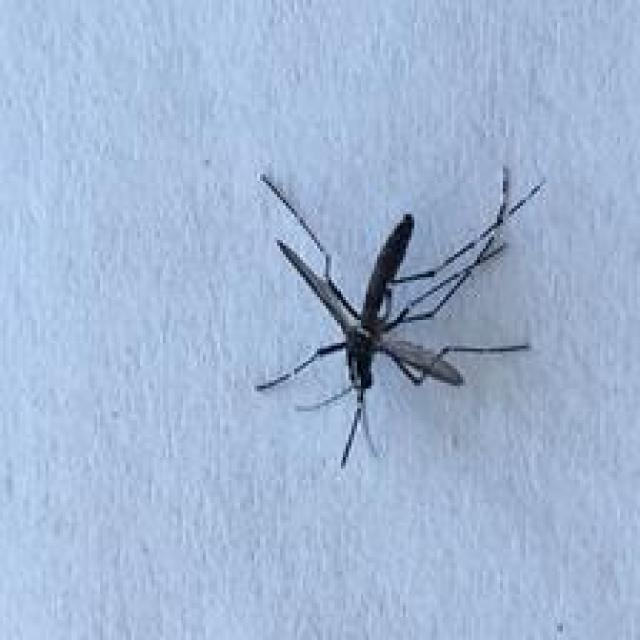Aedes albopictus: (251, 163, 546, 468)
